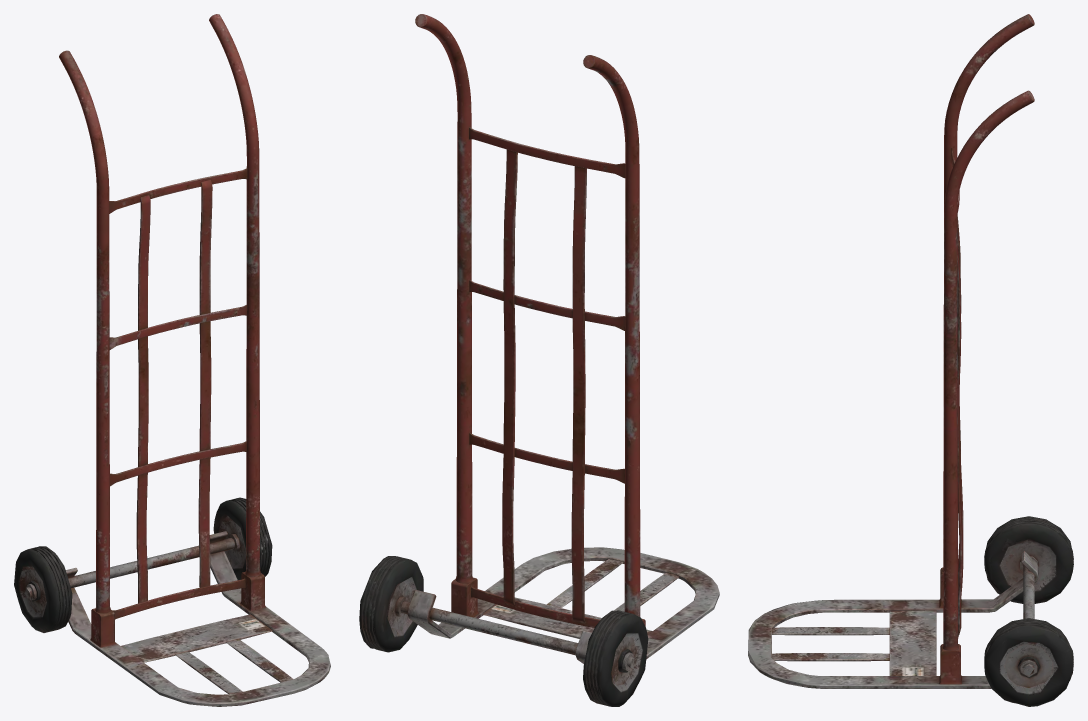
File: hand_truck.glb
3 views of the same model, side by side, from view 1: azimuth 30°, elevation 25°; view 2: azimuth 150°, elevation 25°; view 3: azimuth 270°, elevation 25° (orthographic). The views are drawn at different scales.
Visible parts, largest first — view 1: hand_truck; view 2: hand_truck; view 3: hand_truck.
Boxes of the visible parts, x1,y1,x2,y2 form: hand_truck: (14, 14, 330, 706); hand_truck: (359, 14, 719, 706); hand_truck: (748, 14, 1073, 706).
Bounding box in the file's own units: 0.5932 × 1.4 × 0.6923.
Materials: 1 (1 with a texture image).
